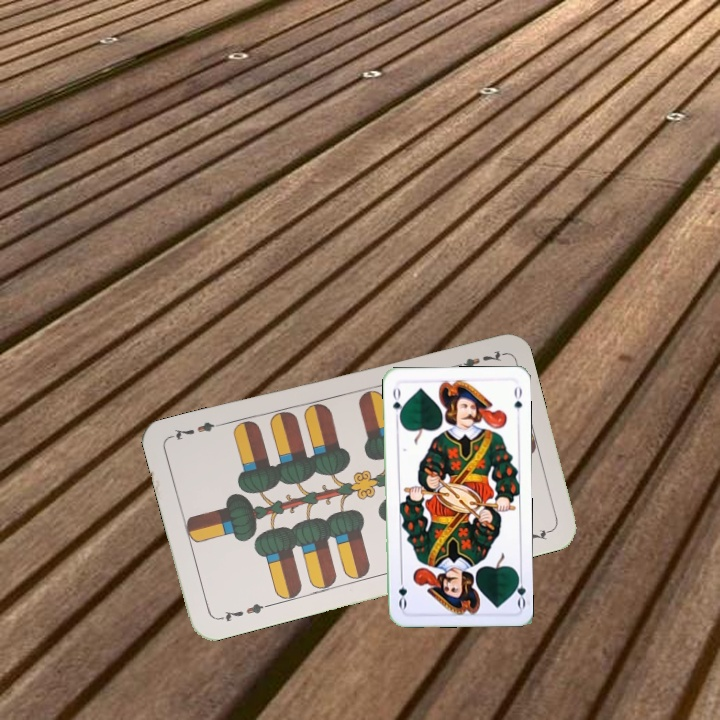E7: (213, 599, 272, 625), (447, 346, 505, 371)
GO: (509, 569, 528, 610), (388, 382, 405, 423)
